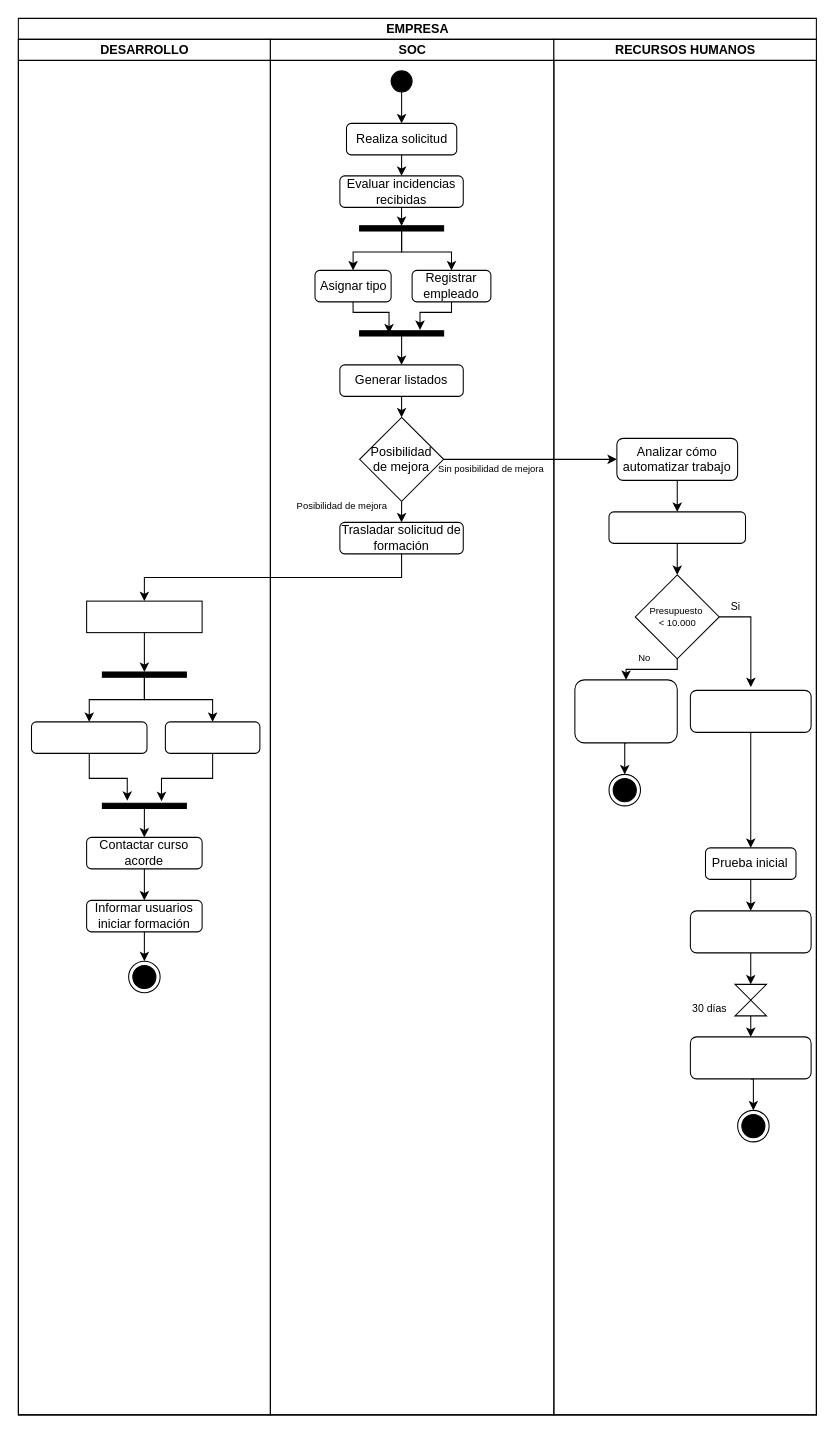
Some shapes in this 835 by 1433 pixel diagram are drawn without their labels. Here are the shapes that lost their labels. From the top down, the centre of each, then its label:
At (677,527): "Obtener presupuesto".
At (144,616): "Listado empleados".
At (625,711): "Comunicación al gerente para aprobación de desarrollo".
At (750,710): "Desarrollo herramienta".
At (88,737): "Consultar catálogo de formación".
At (212,737): "Recabar datos empleados".
At (750,931): "Generación de documentación".
At (750,1057): "Analizar comportamiento".
